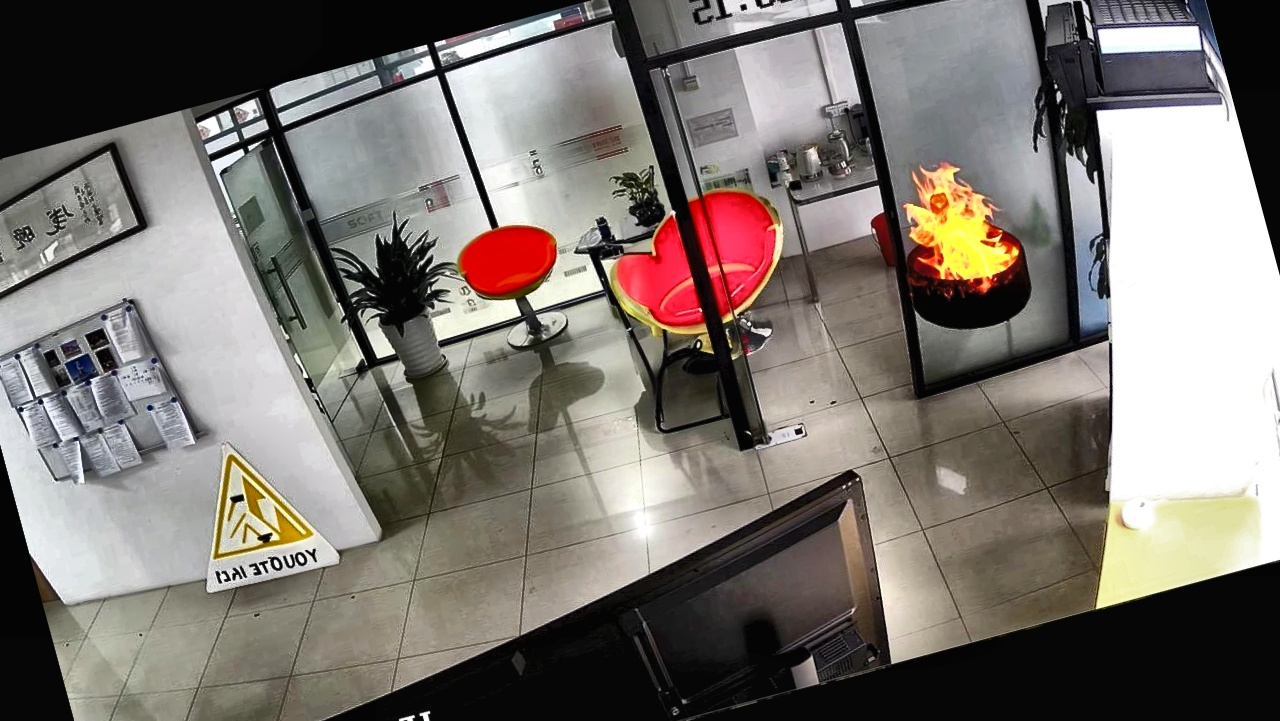fire: (838, 96, 1063, 348)
